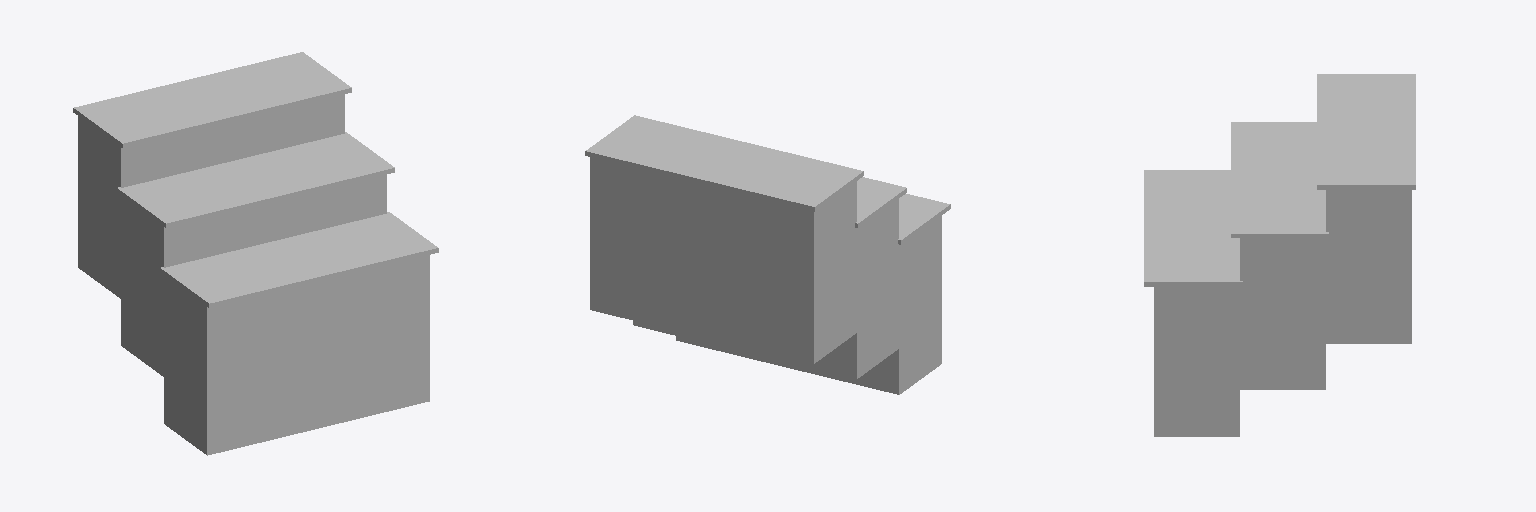
Rendered from schody.obj.
3 renders of one model, left to right at view 1: azimuth 30°, elevation 25°; view 2: azimuth 150°, elevation 25°; view 3: azimuth 270°, elevation 25°, orthographic.
Parts seen in each view (by area): view 1: Kostka, Kostka.001; view 2: Kostka, Kostka.001; view 3: Kostka, Kostka.001.
Part boxes in pixels (left/top/right/bottom): Kostka: left=78, top=94, right=429, bottom=455; Kostka.001: left=73, top=52, right=438, bottom=307; Kostka: left=590, top=157, right=941, bottom=394; Kostka.001: left=585, top=115, right=950, bottom=244; Kostka: left=1154, top=190, right=1411, bottom=436; Kostka.001: left=1144, top=74, right=1415, bottom=286.
Size of the model in its own units: 3.08 by 3.25 by 3.16.